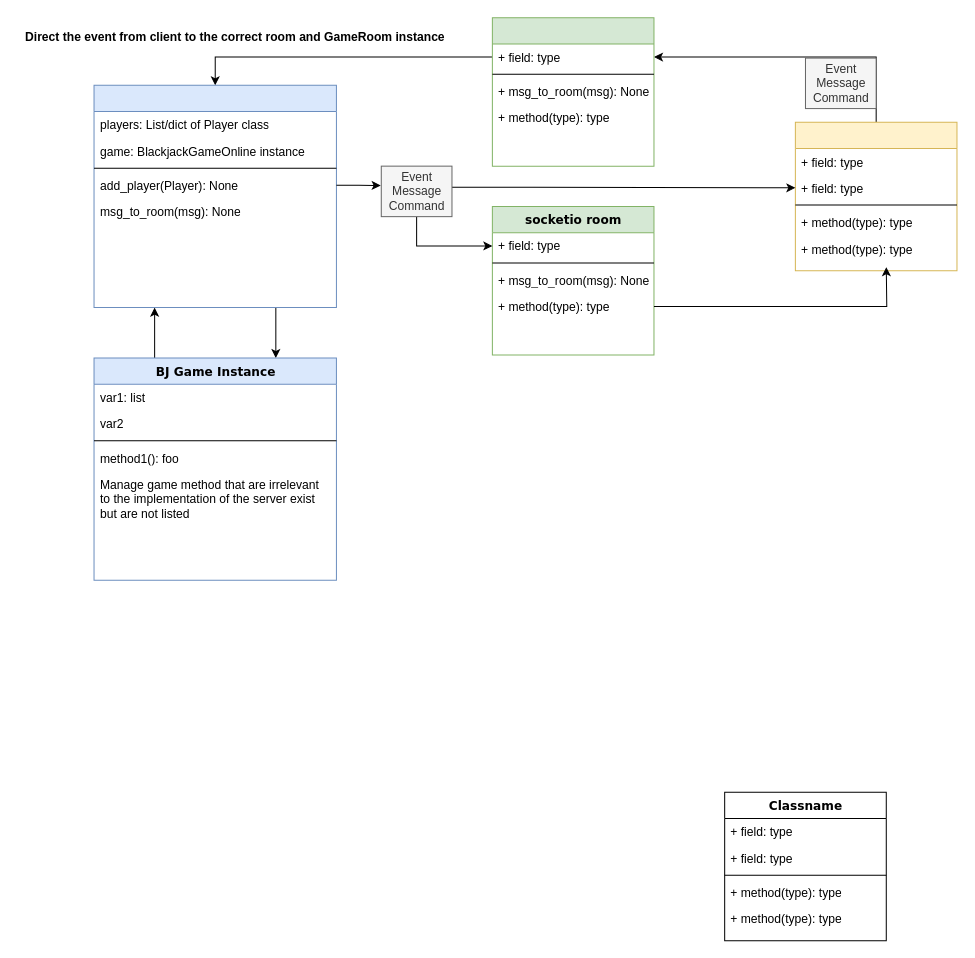
This 975x958 diagram has some shape labels left out. Here are the shapes that lost their labels. From the top down, the box of each, then its label:
(491, 17, 654, 166): socketio event handler
(93, 84, 336, 308): GameRoom
(794, 121, 957, 271): Client
